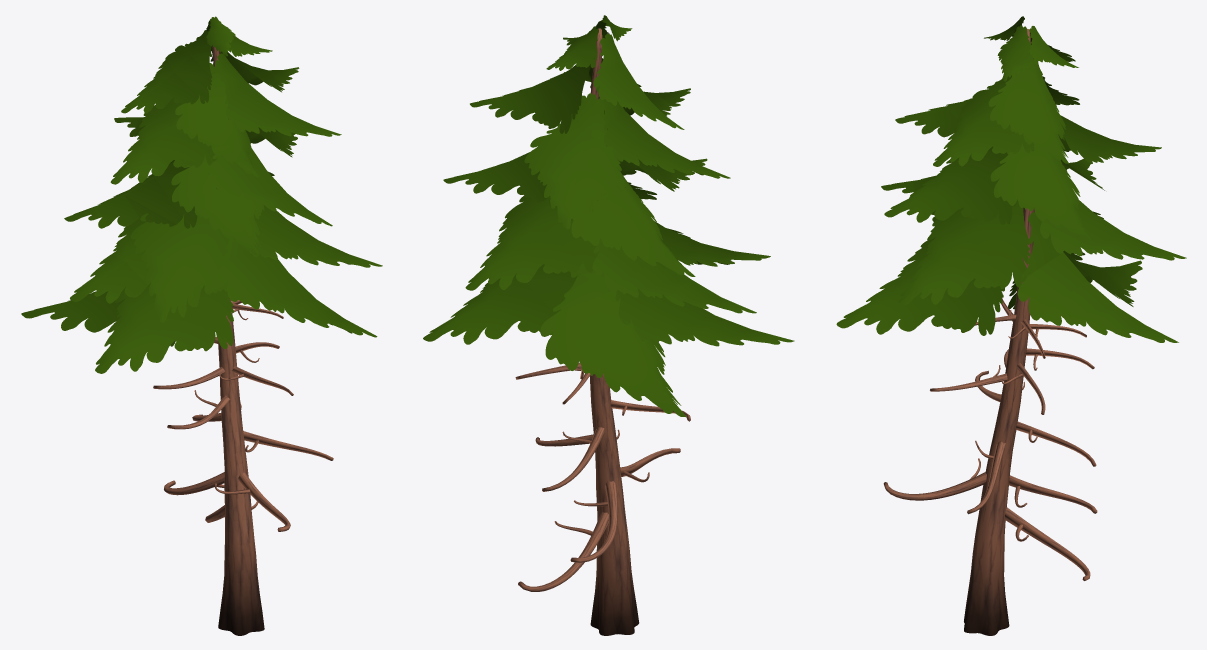
The model's file is Pine_3.gltf.
3 renders of one model, left to right at view 1: azimuth 30°, elevation 25°; view 2: azimuth 150°, elevation 25°; view 3: azimuth 270°, elevation 25°, orthographic. The views are drawn at different scales.
Parts seen in each view (by area): view 1: Pine_3; view 2: Pine_3; view 3: Pine_3.
Boxes of the visible parts, <box> form: Pine_3: <box>21,16,382,635</box>; Pine_3: <box>423,15,794,635</box>; Pine_3: <box>836,16,1186,635</box>.
Bounding box in the file's own units: 3.61 × 7.39 × 4.
Materials: 2 (2 with a texture image).
